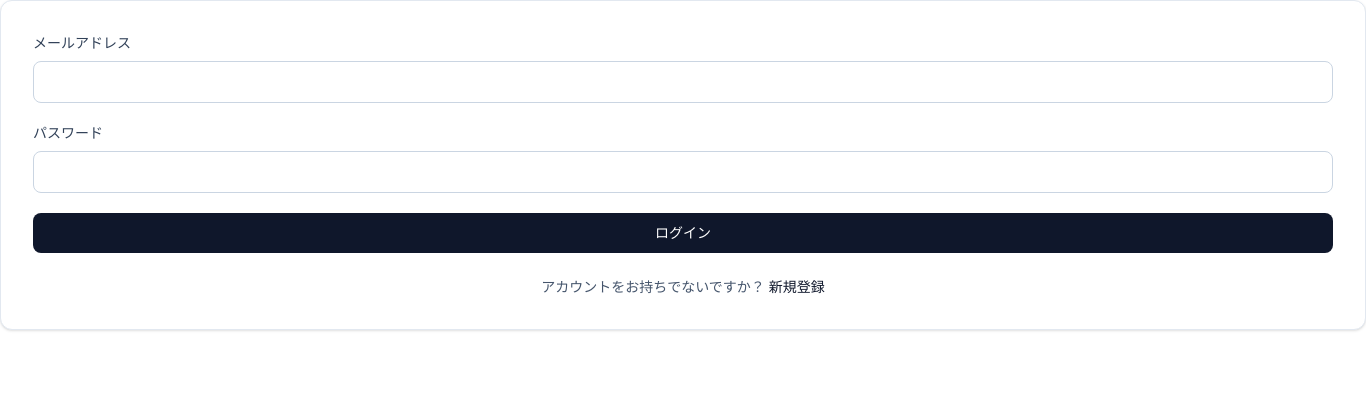
Test: LoginForm › 401の場合は認証エラーを表示する
Type "test@example.com" into the field labelled "メールアドレス".
click(683, 82); type("test@example.com")  # box [33, 61, 1333, 103]
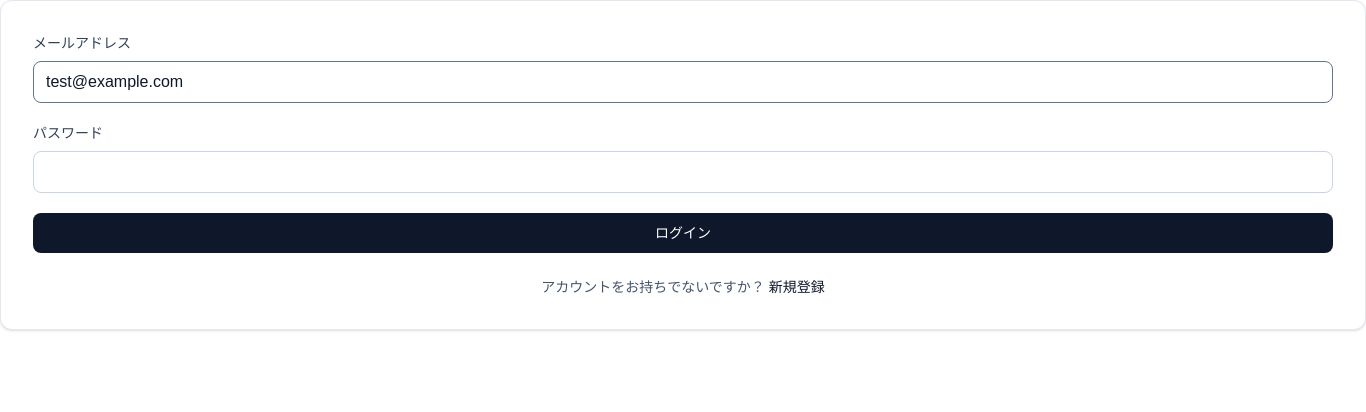
Type "password123" into the password field labelled "パスワード".
click(683, 172); type("password123")  # box [33, 151, 1333, 193]
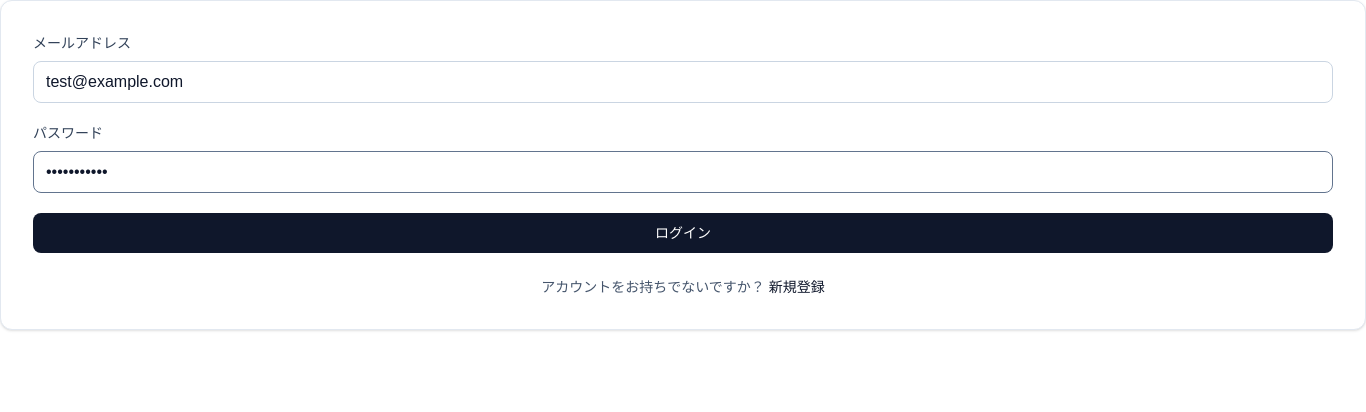
Click the button "ログイン".
click(683, 233)  # box [33, 213, 1333, 253]
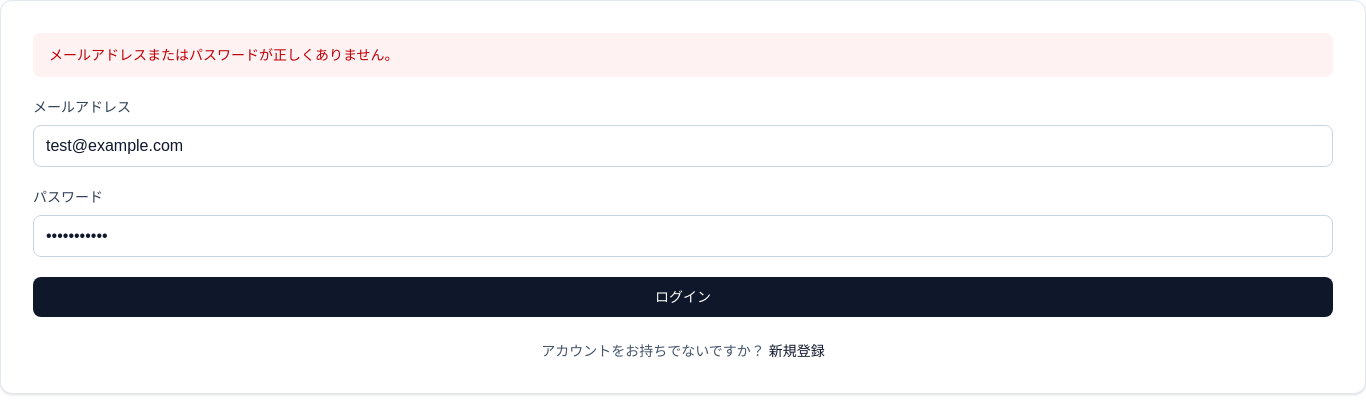
Check: the message reads "メールアドレスまたはパスワードが正しくありません。", box [49, 47, 399, 63]
